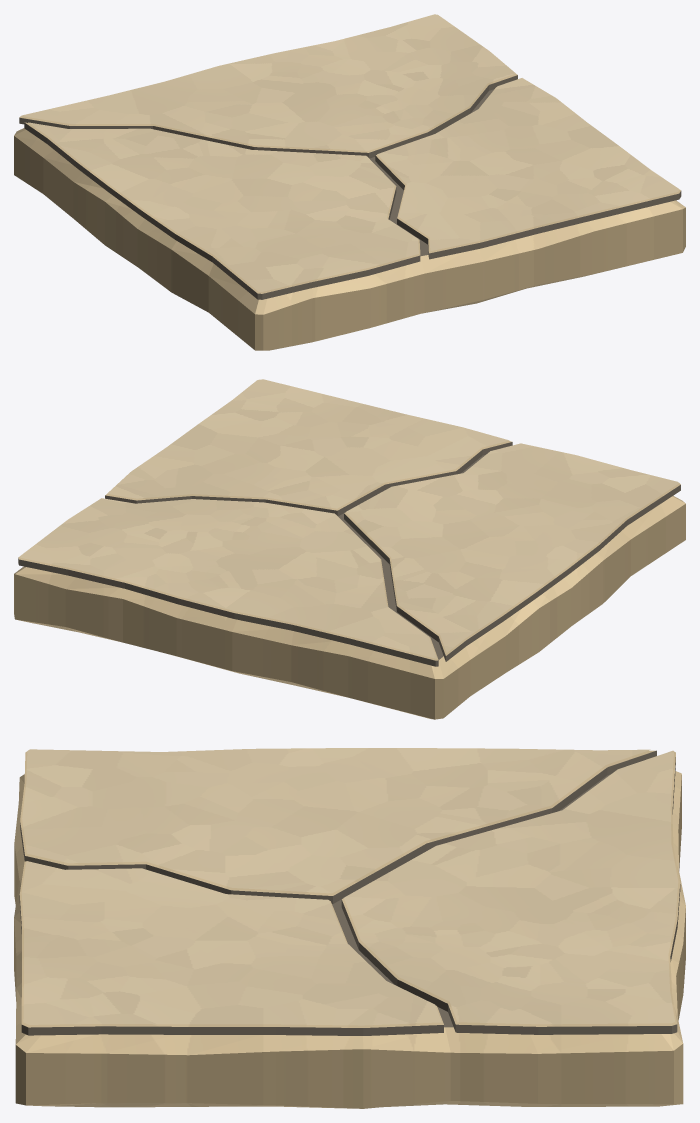
The model's file is tile_a_cracked.glb.
The picture shows the model from 3 angles, top to bottom: view 1: azimuth 30°, elevation 25°; view 2: azimuth 150°, elevation 25°; view 3: azimuth 270°, elevation 25°; orthographic projection. The views are drawn at different scales.
Parts seen in each view (by area): view 1: tile_a_cracked; view 2: tile_a_cracked; view 3: tile_a_cracked.
Part boxes in pixels (left/top/right/bottom): tile_a_cracked: left=14, top=14, right=685, bottom=350; tile_a_cracked: left=14, top=379, right=685, bottom=719; tile_a_cracked: left=14, top=748, right=685, bottom=1108.
Bounding box in the file's own units: 2.8 × 0.4 × 2.8.
Materials: 4 (3 with a texture image).
